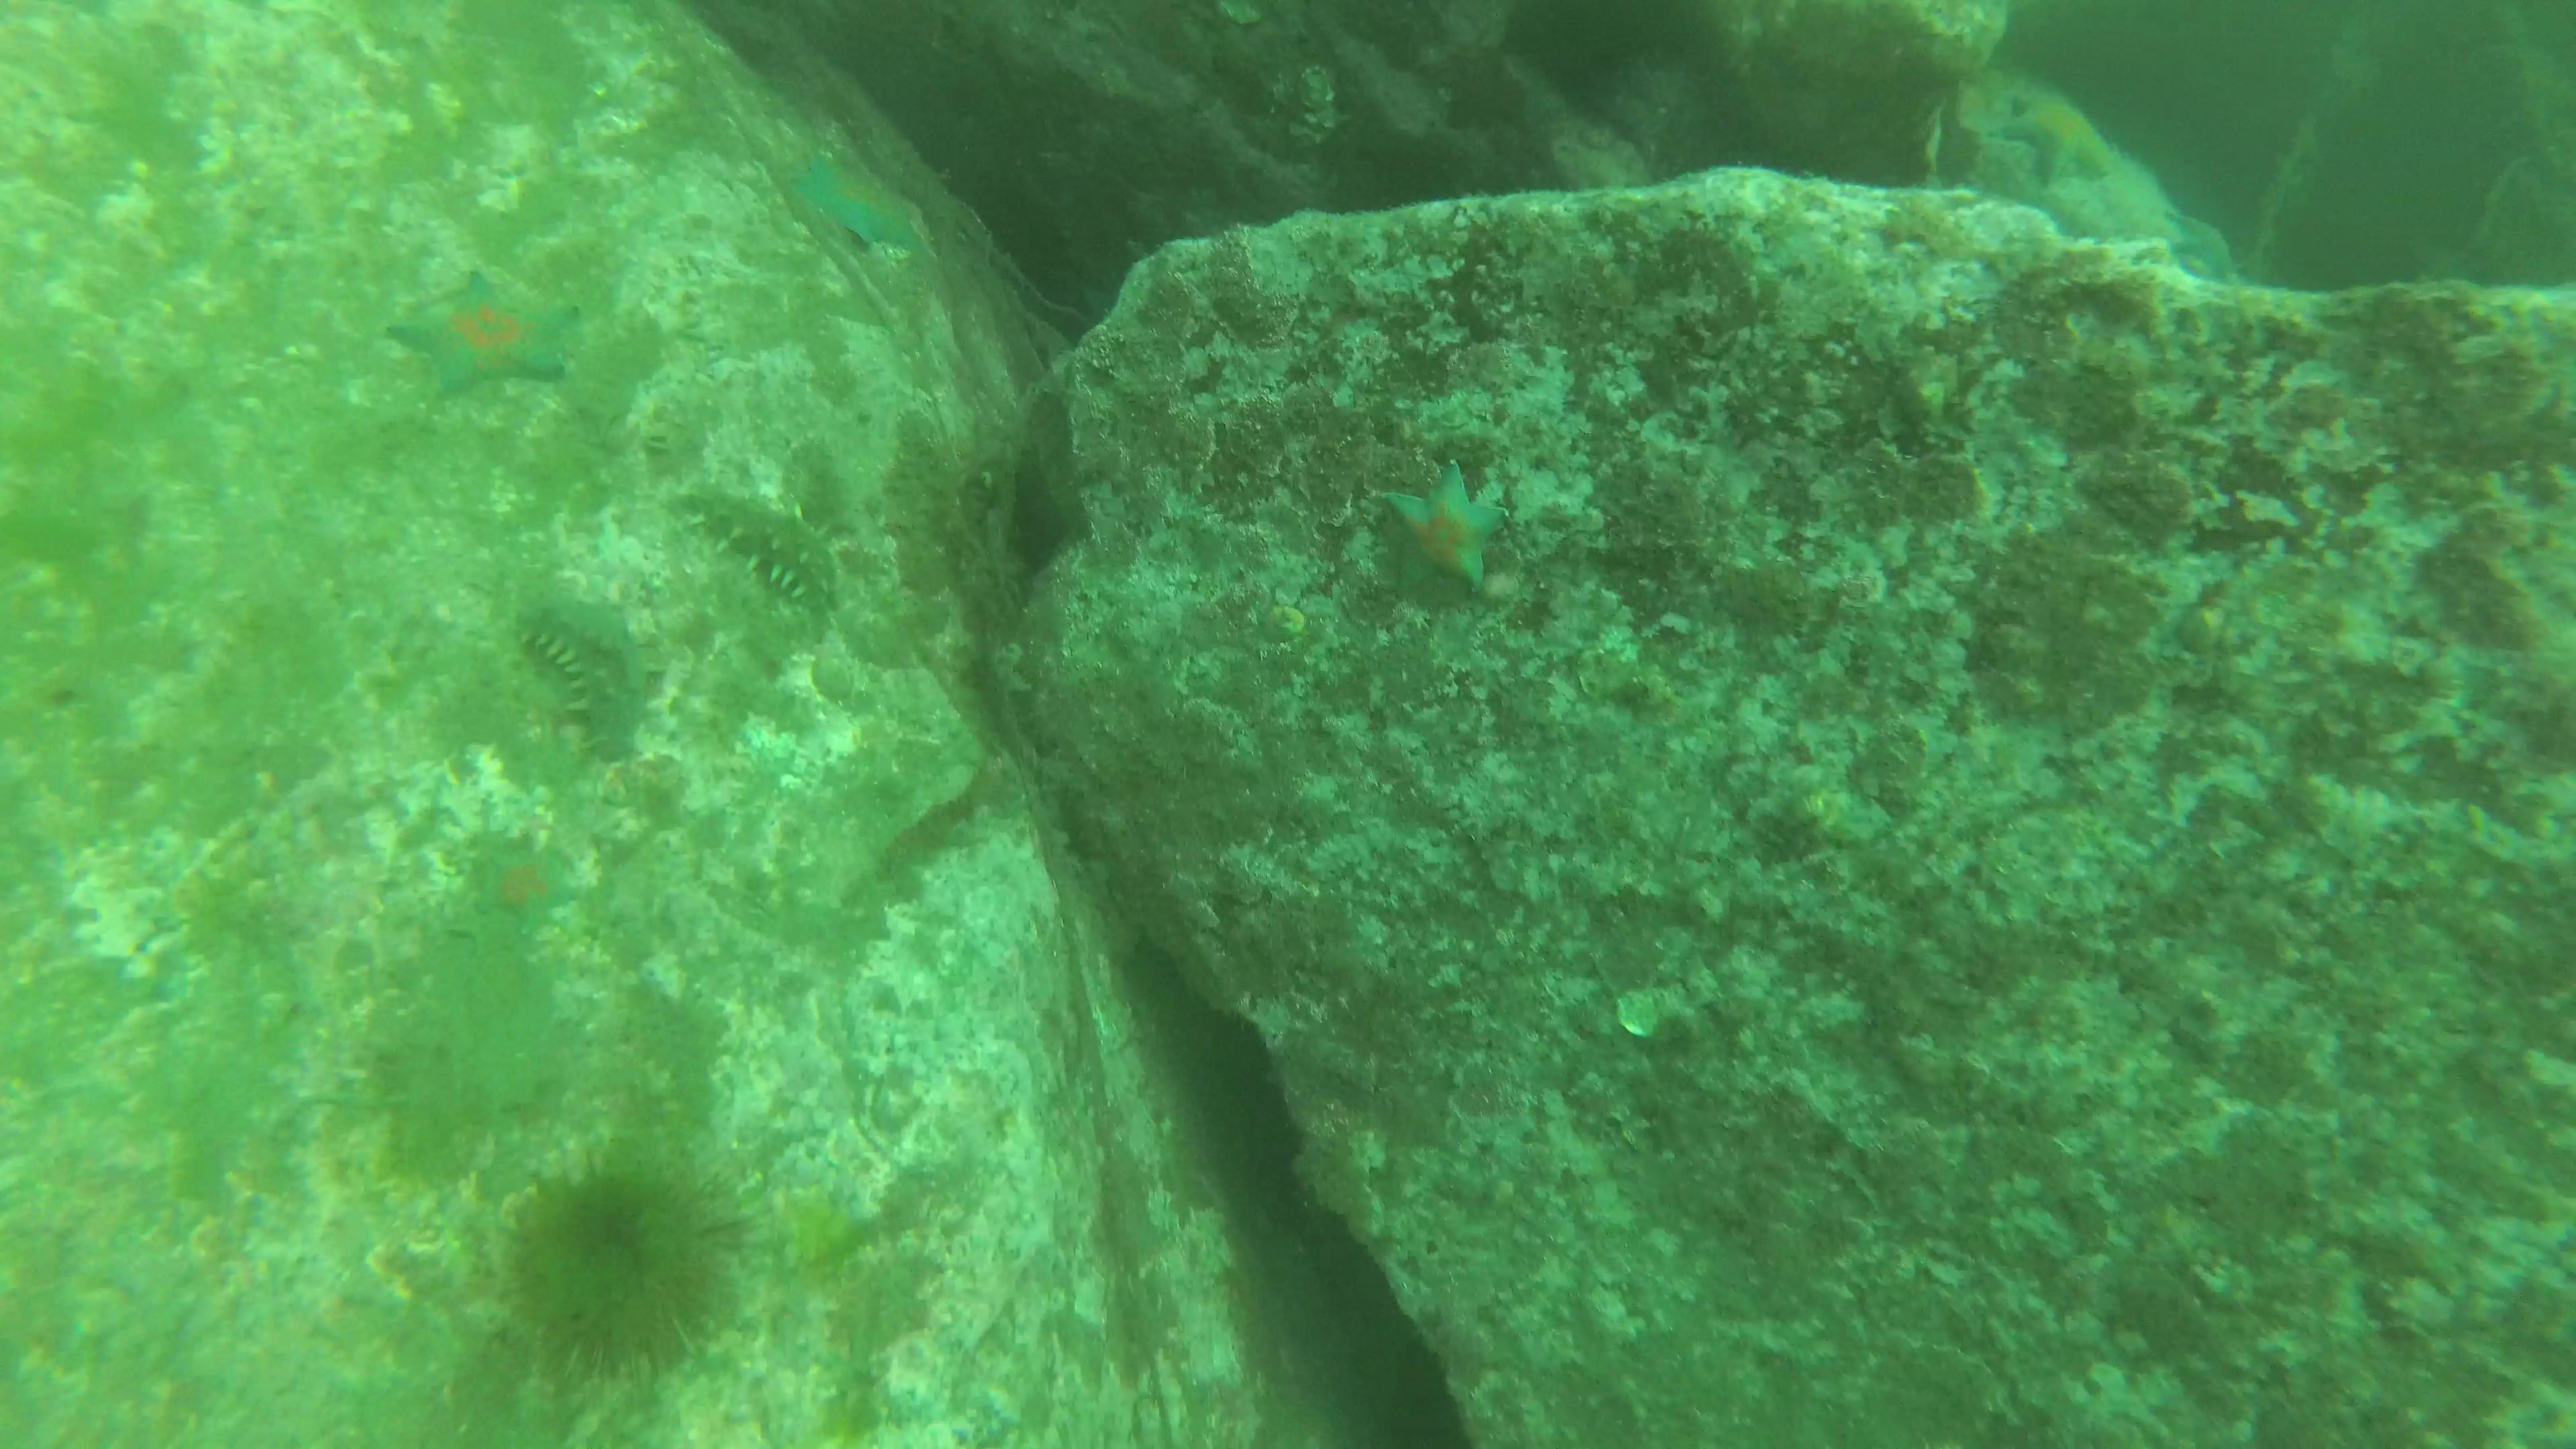echinus: (494, 1138, 766, 1405)
holothurian: (506, 612, 649, 770), (678, 488, 842, 609)
starfish: (382, 274, 580, 398), (1373, 465, 1507, 600), (784, 140, 932, 260), (1994, 80, 2127, 195), (467, 835, 586, 936), (2158, 196, 2240, 281)
